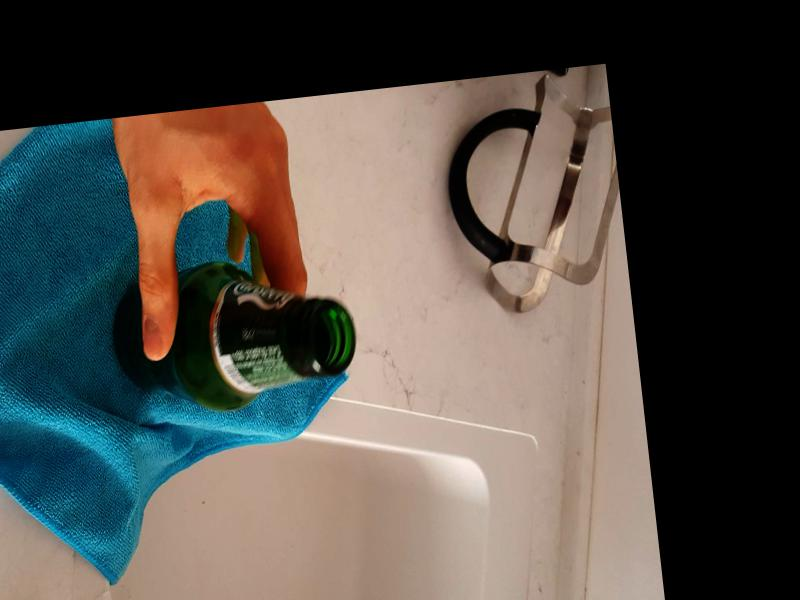Beer: (105, 259, 357, 420)
